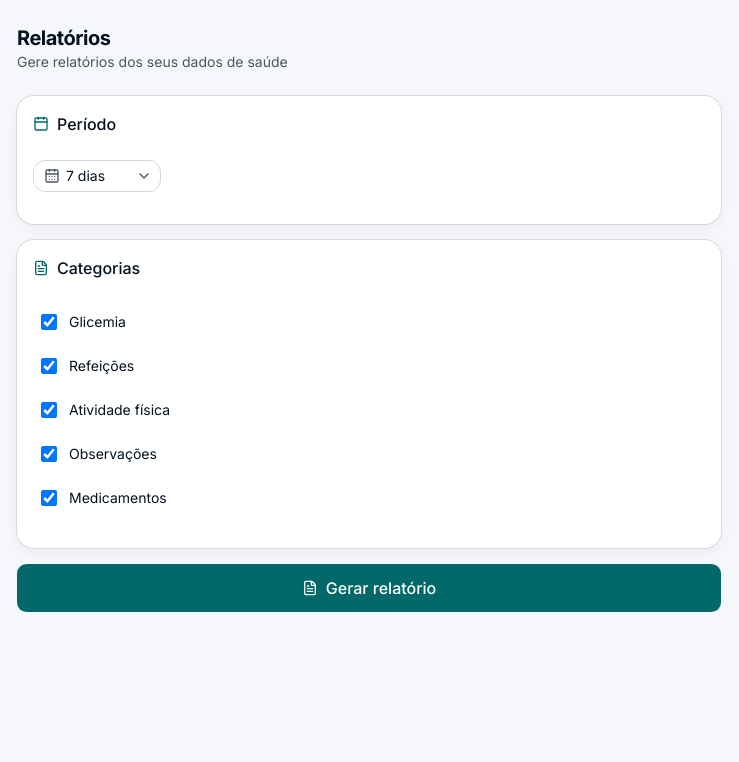
Test case: ReportsWidget › labels the share action as download when the browser cannot share files
What coordinates should you click on to do the following:
click the button "Gerar relatório"
I would click on:
 (369, 588)
Its box is [17,564,721,612].
(page scrolled)
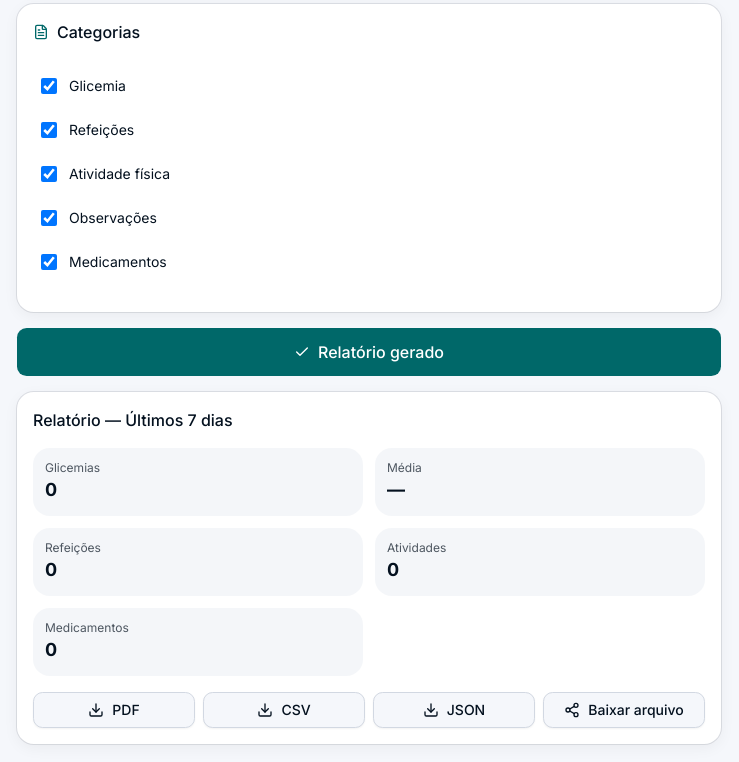
Check: the button "PDF" is shown, box [33,692,195,728]
Check: the button "Baixar arquivo" is shown, box [543,692,705,728]
